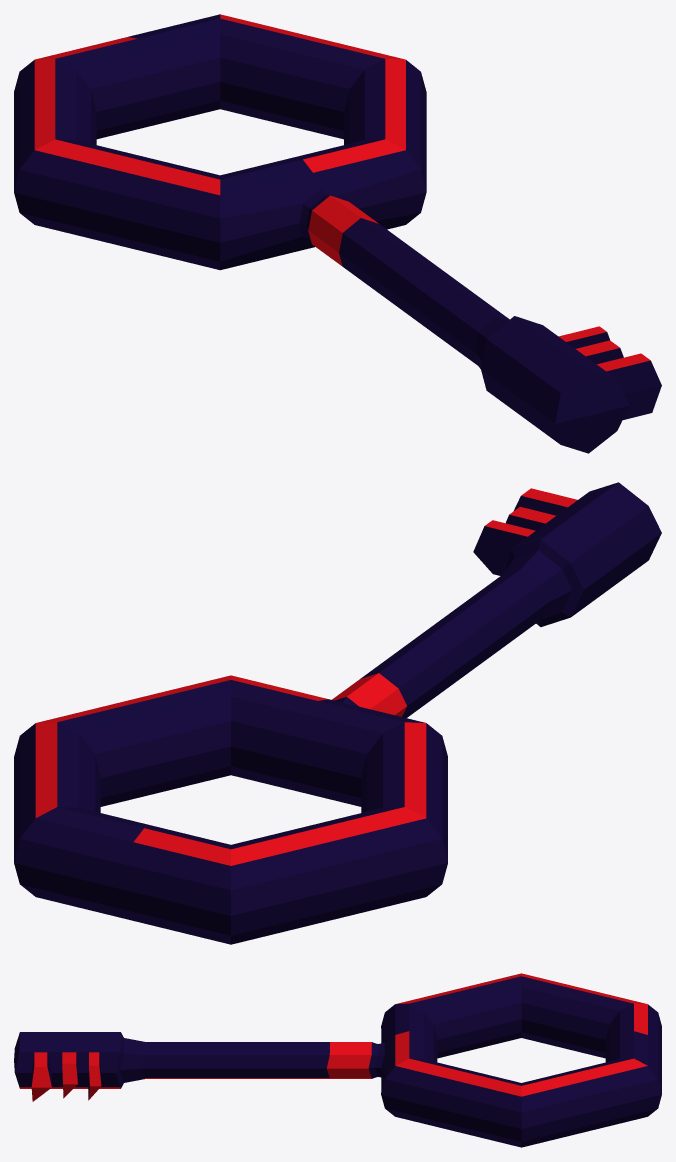
File: MazeKey1.glb
3 renders of one model, top to bottom at view 1: azimuth 30°, elevation 25°; view 2: azimuth 150°, elevation 25°; view 3: azimuth 270°, elevation 25°, orthographic. The views are drawn at different scales.
Parts seen in each view (by area): view 1: Torus; view 2: Torus; view 3: Torus.
Boxes of the visible parts, left/top/right/bottom form: Torus: left=14, top=14, right=661, bottom=453; Torus: left=14, top=482, right=661, bottom=944; Torus: left=14, top=973, right=661, bottom=1147.
Bounding box in the file's own units: 2.5 × 0.5 × 4.99.
